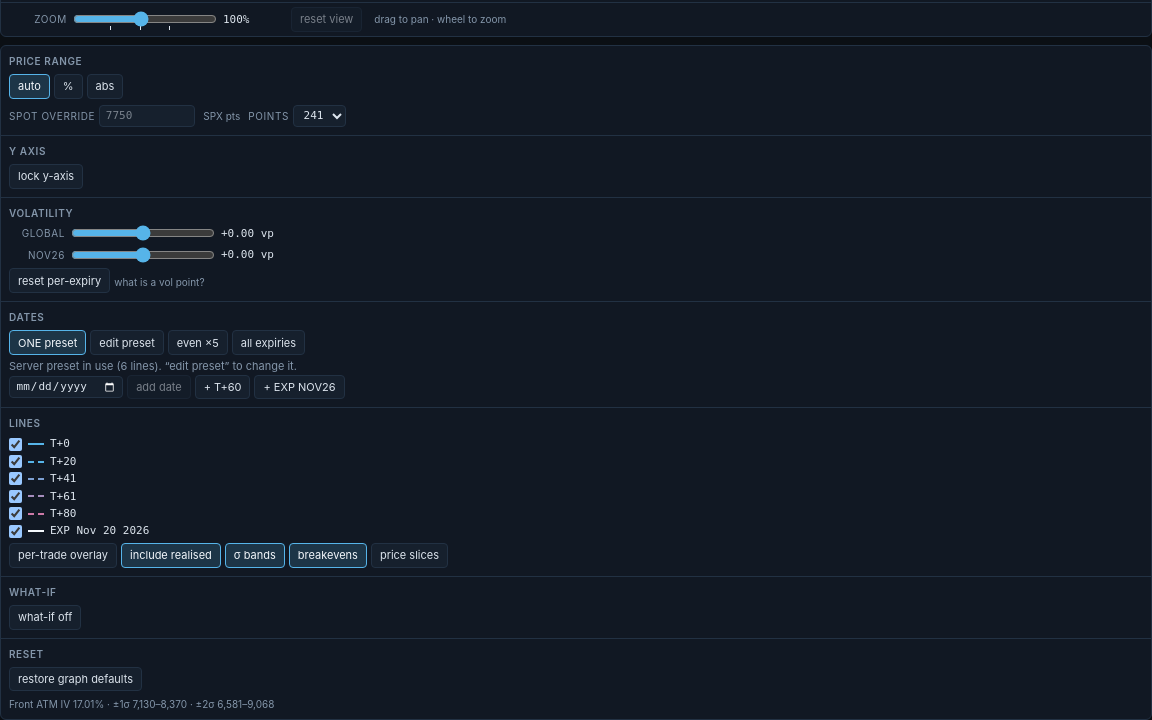
it: RiskGraphPanel › computes the what-if answer from the server, not from the chart
(page scrolled)
Step 1. Click the button "what-if off" → point(45, 617), box [9,605,81,630]
(page scrolled)
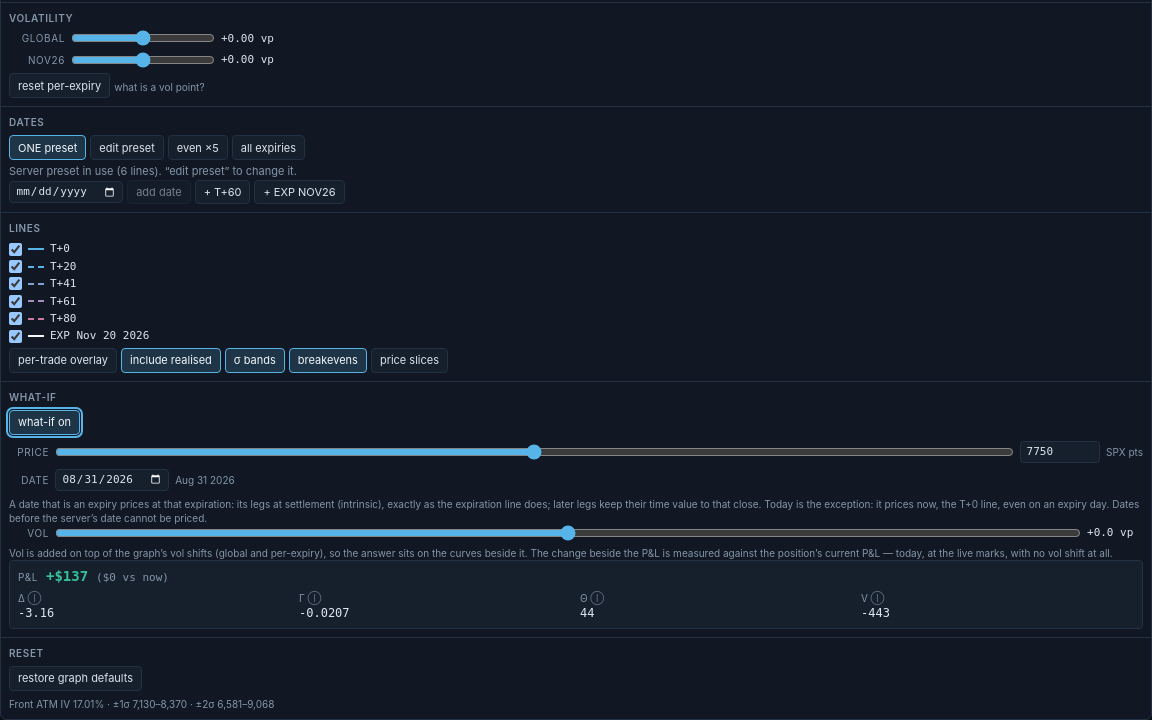
Now the slider named "What-if price" is shown, box [55,445,1014,459]
Now the text "($0 vs now)" is shown, box [96,570,169,586]
